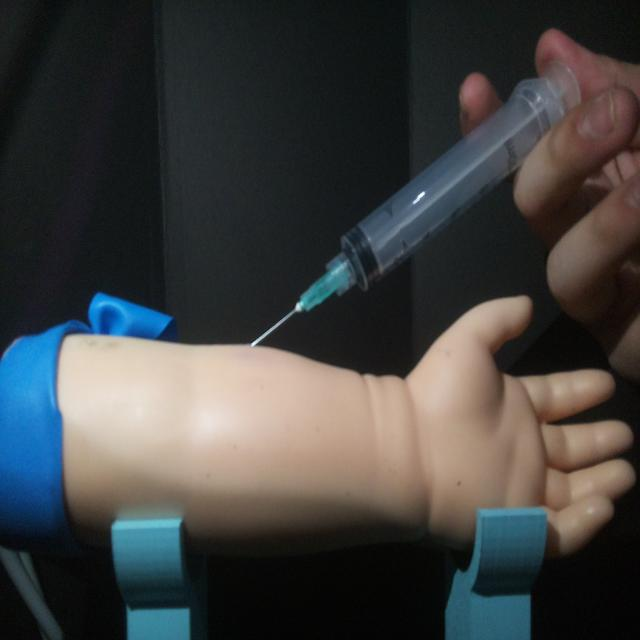28deg: (244, 57, 582, 351)
